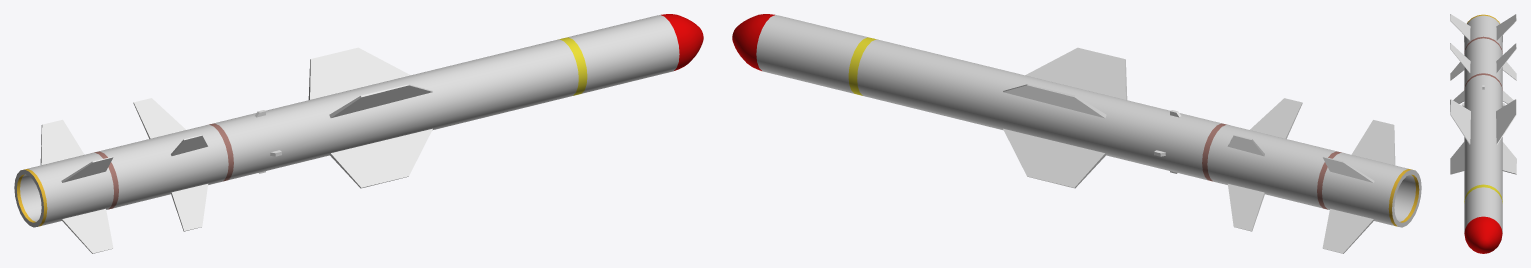
Rendered from Rocket.fbx.
3 views of the same model, side by side, from view 1: azimuth 30°, elevation 25°; view 2: azimuth 150°, elevation 25°; view 3: azimuth 270°, elevation 25° (orthographic). The views are drawn at different scales.
Visible parts, largest first — view 1: Body, Fins, Engine; view 2: Body, Fins, Engine; view 3: Body, Fins, Engine.
Part boxes in pixels (<box>): Body: <box>27,15,679,225</box>; Fins: <box>40,47,432,253</box>; Engine: <box>14,14,703,227</box>; Body: <box>756,15,1408,225</box>; Fins: <box>1003,47,1395,253</box>; Engine: <box>732,14,1421,227</box>; Body: <box>1464,15,1502,232</box>; Fins: <box>1450,14,1516,174</box>; Engine: <box>1464,14,1502,253</box>.
Bounding box in the file's own units: 479 × 63.33 × 63.33.
